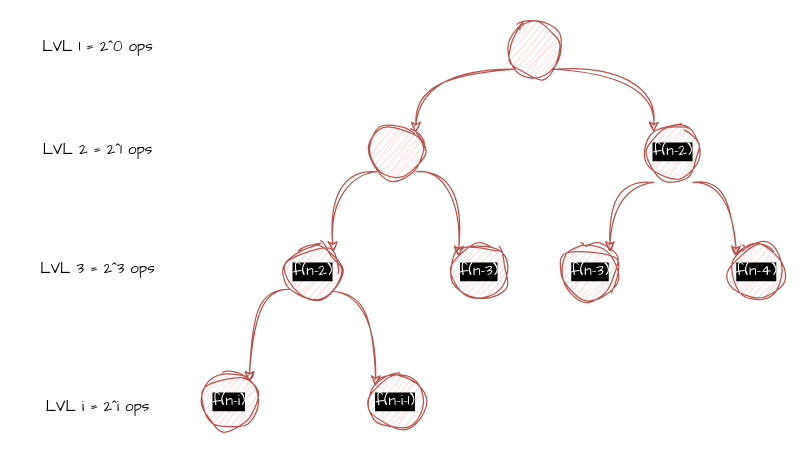
The diagram is 806 pixels wide and 464 high, and some of its shapes have lost their labels. Each missing label, with the centre of its shape:
"f(n)" belongs at pixel 534 49.
"f(n-1)" belongs at pixel 395 151.
